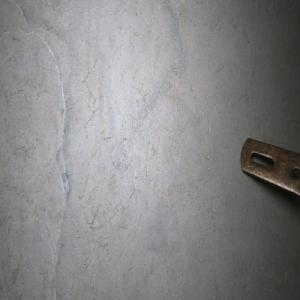MetalPart: (239, 136, 300, 202)
